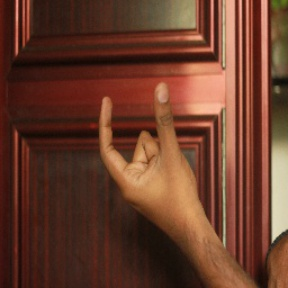U: (98, 79, 194, 203)
